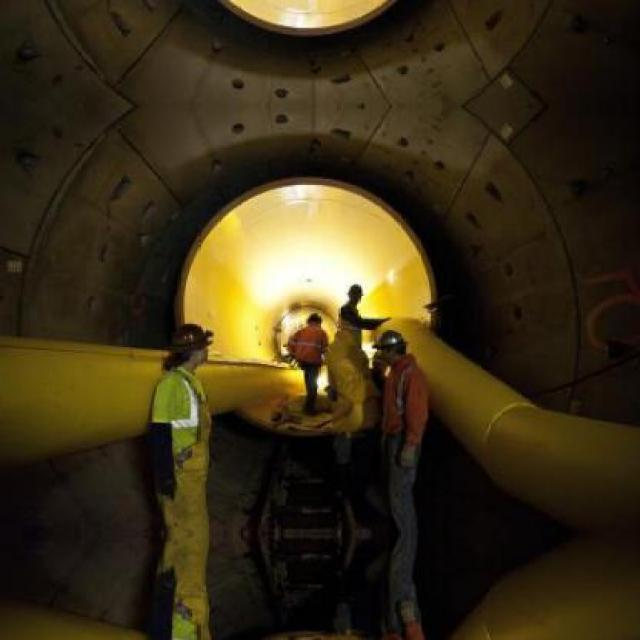Reflective-Jacket: (142, 362, 220, 477), (378, 356, 437, 464), (284, 327, 330, 372)
Safety-Helmet: (160, 319, 218, 358), (371, 327, 411, 356), (305, 310, 326, 328)
